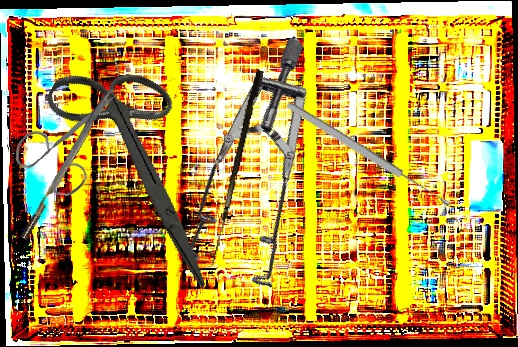Chopper: (11, 60, 130, 241)
Hook Surgical: (211, 69, 264, 268)
Iris Scissors: (2, 40, 279, 289), (13, 82, 119, 199)
Speculum: (121, 35, 409, 317)
Surgical Spoon: (284, 99, 453, 210)
